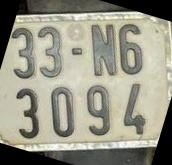-: (71, 46, 83, 57)
0: (51, 84, 77, 138)
3: (38, 24, 65, 81), (10, 27, 36, 81), (16, 88, 40, 141)
4: (124, 83, 147, 135)
6: (119, 23, 144, 73)
9: (86, 85, 112, 134)
N: (90, 24, 117, 79)
